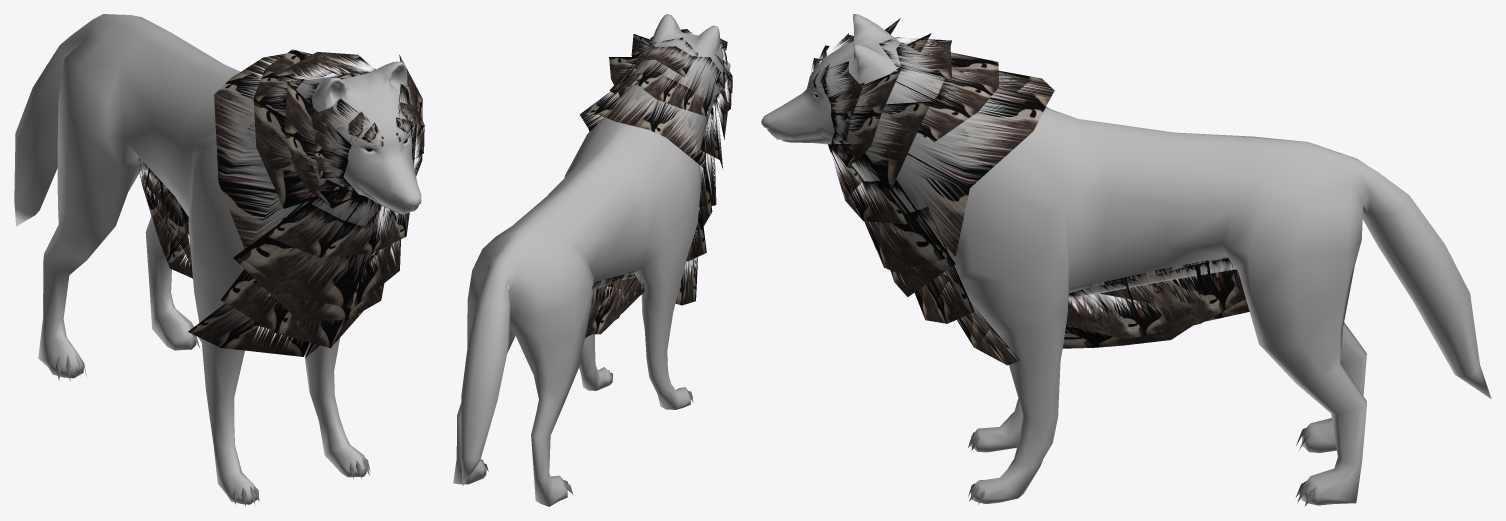
Rendered from Wolf.gltf.
3 views of the same model, side by side, from view 1: azimuth 30°, elevation 25°; view 2: azimuth 150°, elevation 25°; view 3: azimuth 270°, elevation 25° (orthographic). The views are drawn at different scales.
Visible parts, largest first — view 1: Wolf_obj_body.004_Cube.007; view 2: Wolf_obj_body.004_Cube.007; view 3: Wolf_obj_body.004_Cube.007.
Part boxes in pixels (x1,y1,x2,y2): Wolf_obj_body.004_Cube.007: (14, 14, 424, 506); Wolf_obj_body.004_Cube.007: (453, 14, 732, 506); Wolf_obj_body.004_Cube.007: (761, 14, 1491, 506).
Bounding box in the file's own units: 0.2439 × 0.5833 × 0.8697.
5 materials, 2 textured.
